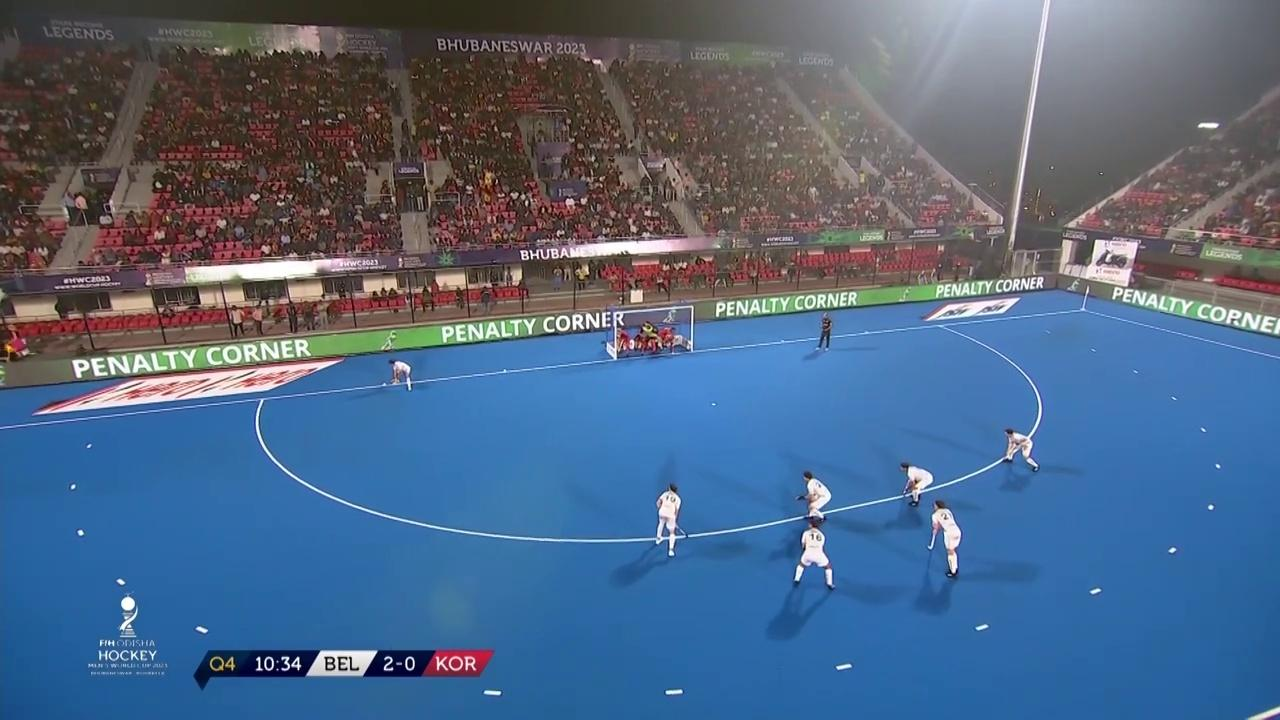ball: (377, 381, 389, 394)
